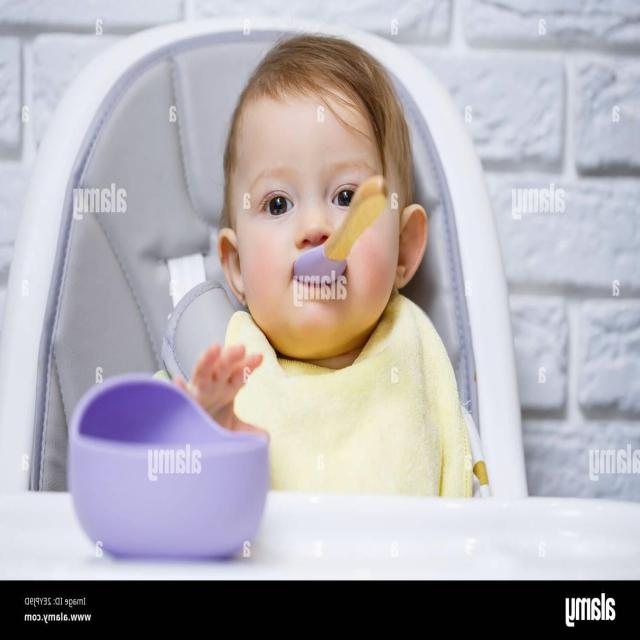child: (171, 42, 468, 437)
